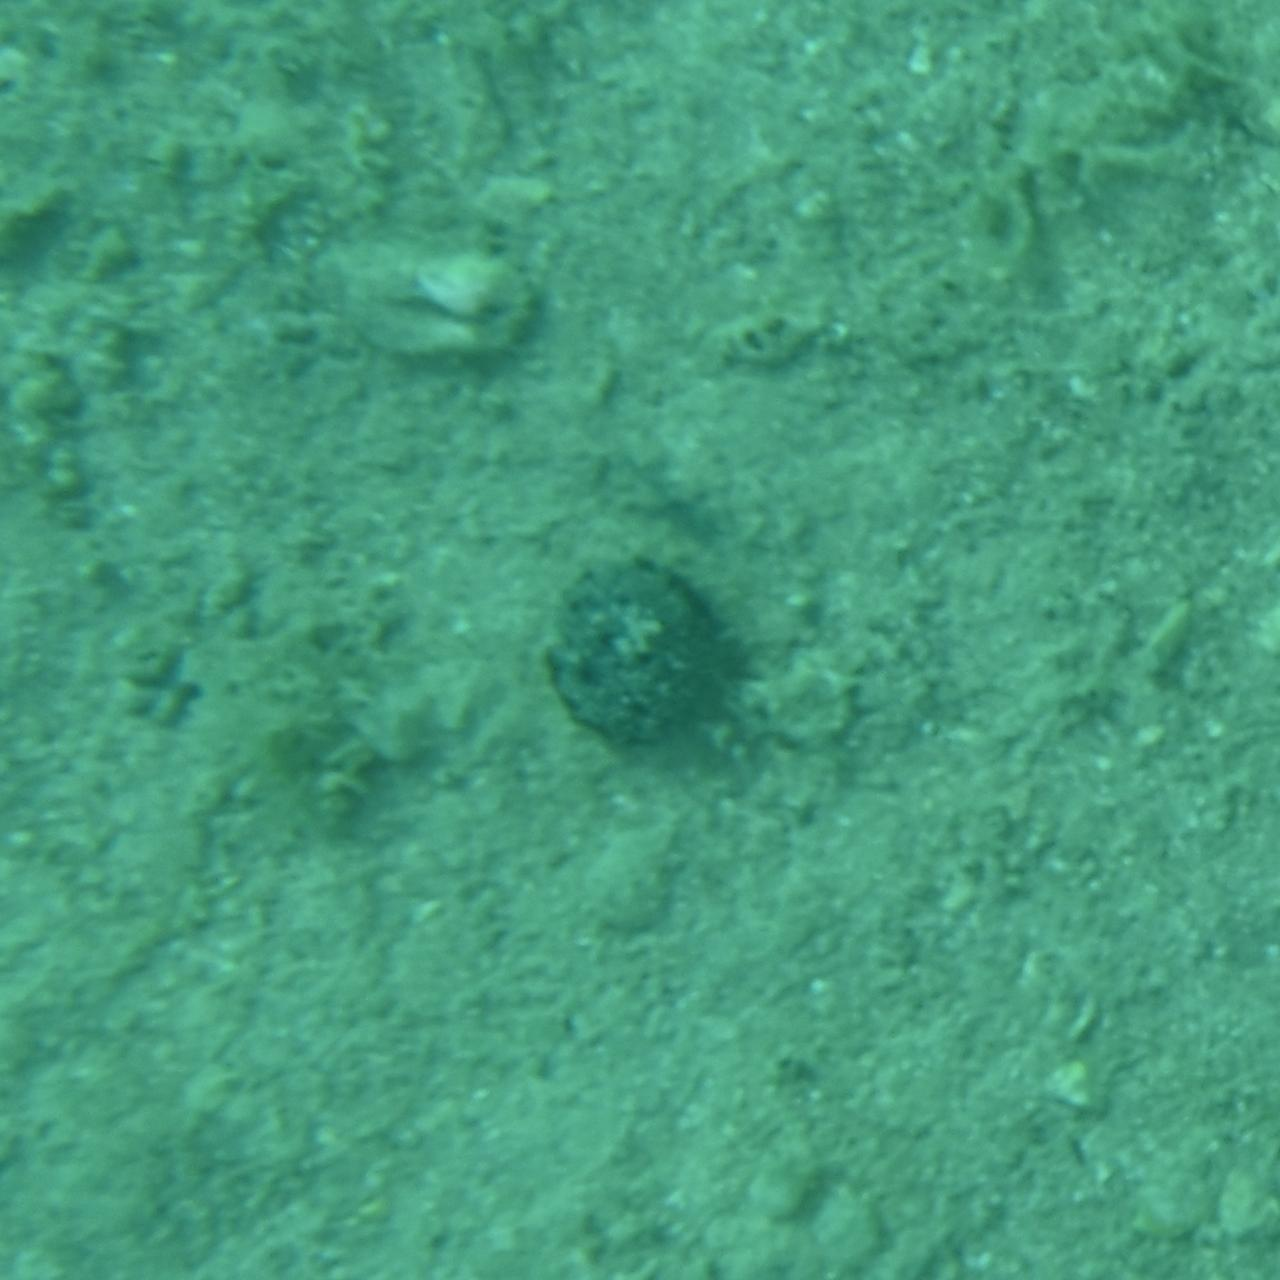Keratosa -cfr Sarcotragus-: (544, 525, 736, 755)
